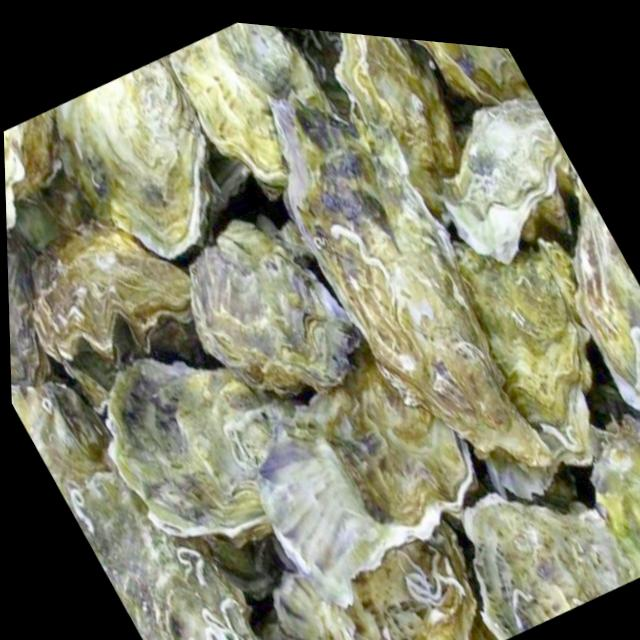Oyster-Closed: (108, 359, 289, 538), (33, 223, 190, 361)
Oyster-Indeterminate: (273, 101, 507, 425), (65, 472, 261, 640), (57, 59, 210, 259), (258, 411, 413, 607), (190, 221, 355, 394), (309, 354, 472, 526), (170, 23, 331, 187), (456, 243, 591, 428), (465, 494, 630, 640), (274, 525, 476, 640), (444, 100, 568, 263), (336, 33, 459, 195), (572, 164, 640, 408), (11, 382, 109, 491), (592, 416, 640, 578), (414, 40, 533, 102), (7, 233, 49, 386)
